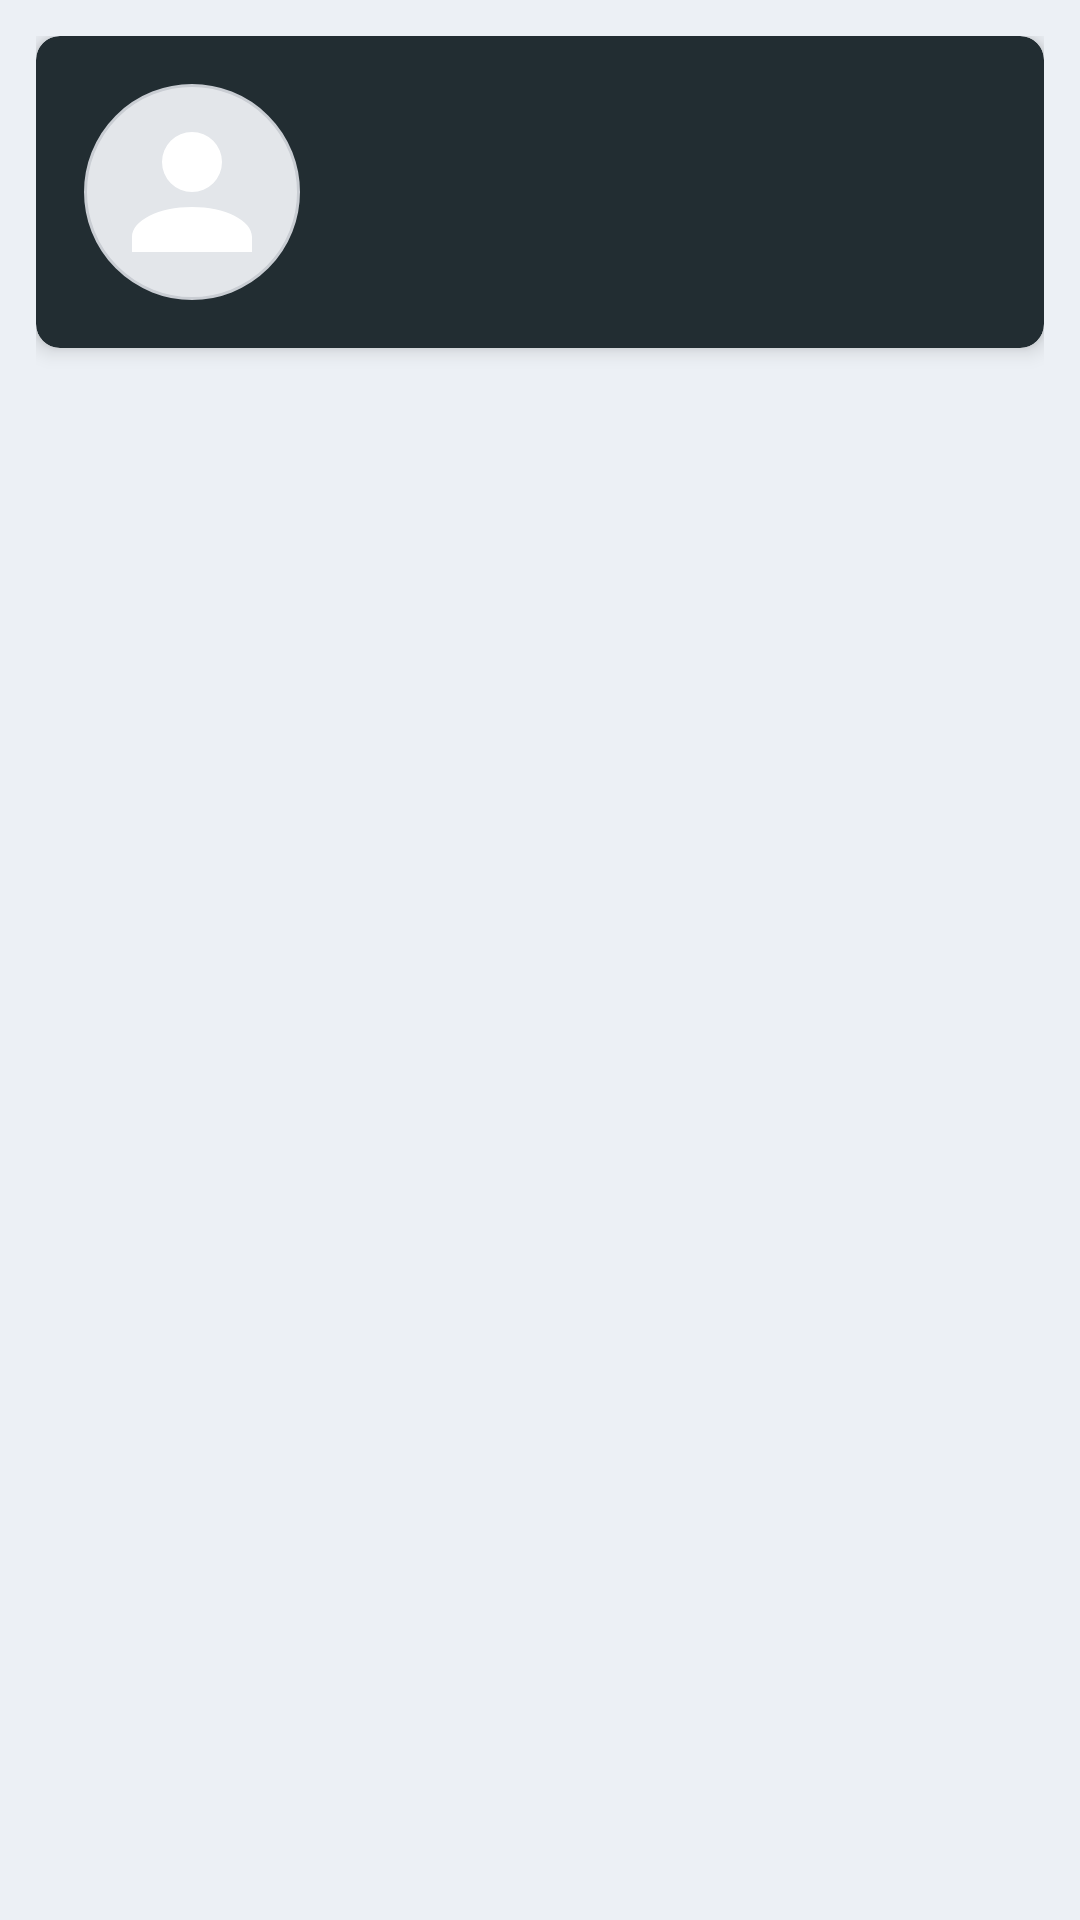

Icon bounding boxes for this 1080×1920 phone screenshot, format (x1, y1, x2, y2):
Mi Perfil: (84, 84, 300, 300)
